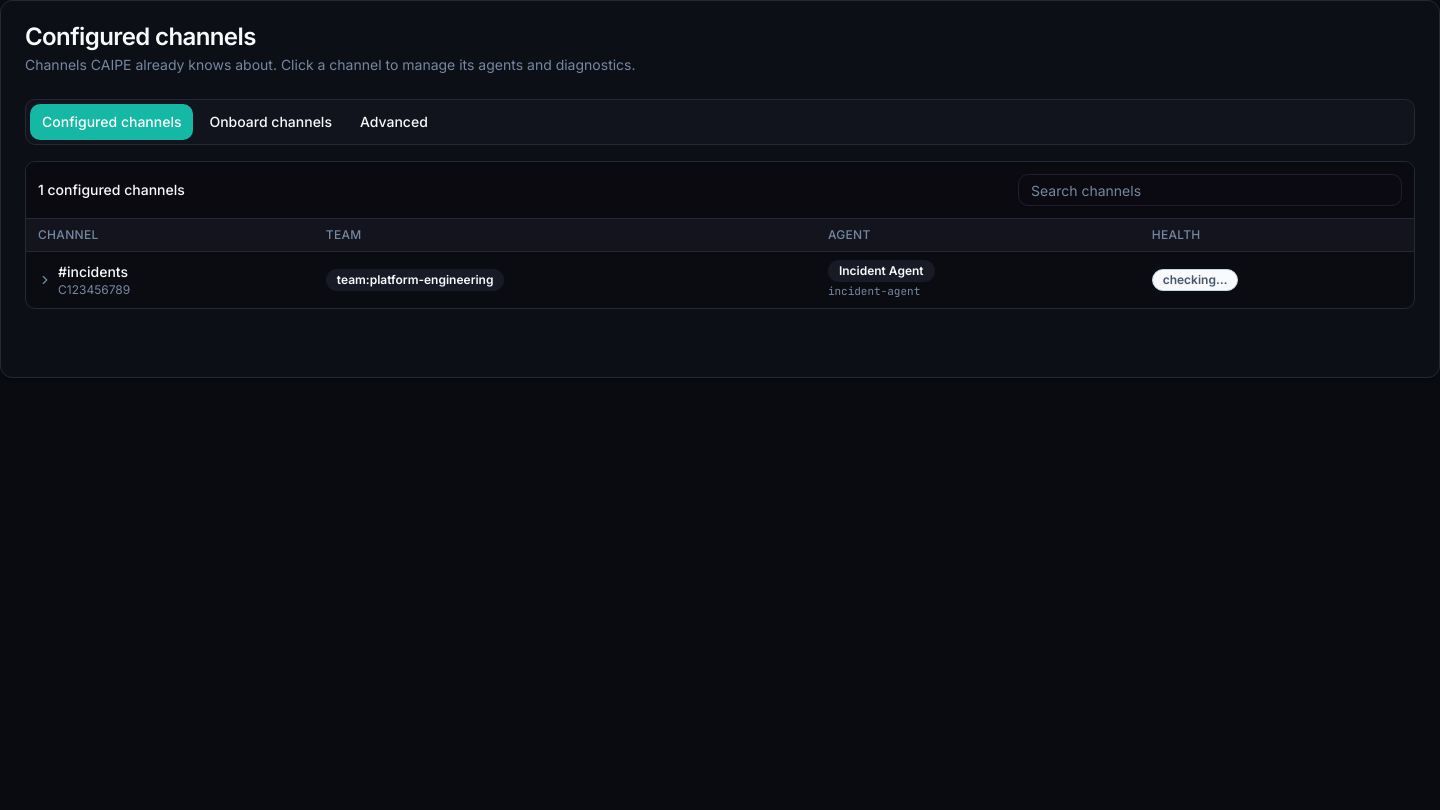
Test: surfaces Slack runtime diagnostics warnings
The image size is (1440, 810).
What coordinates should you click on to do the following:
click the button "#incidents"
I would click on:
 (93, 271)
Its box is [26,252,1414,308].
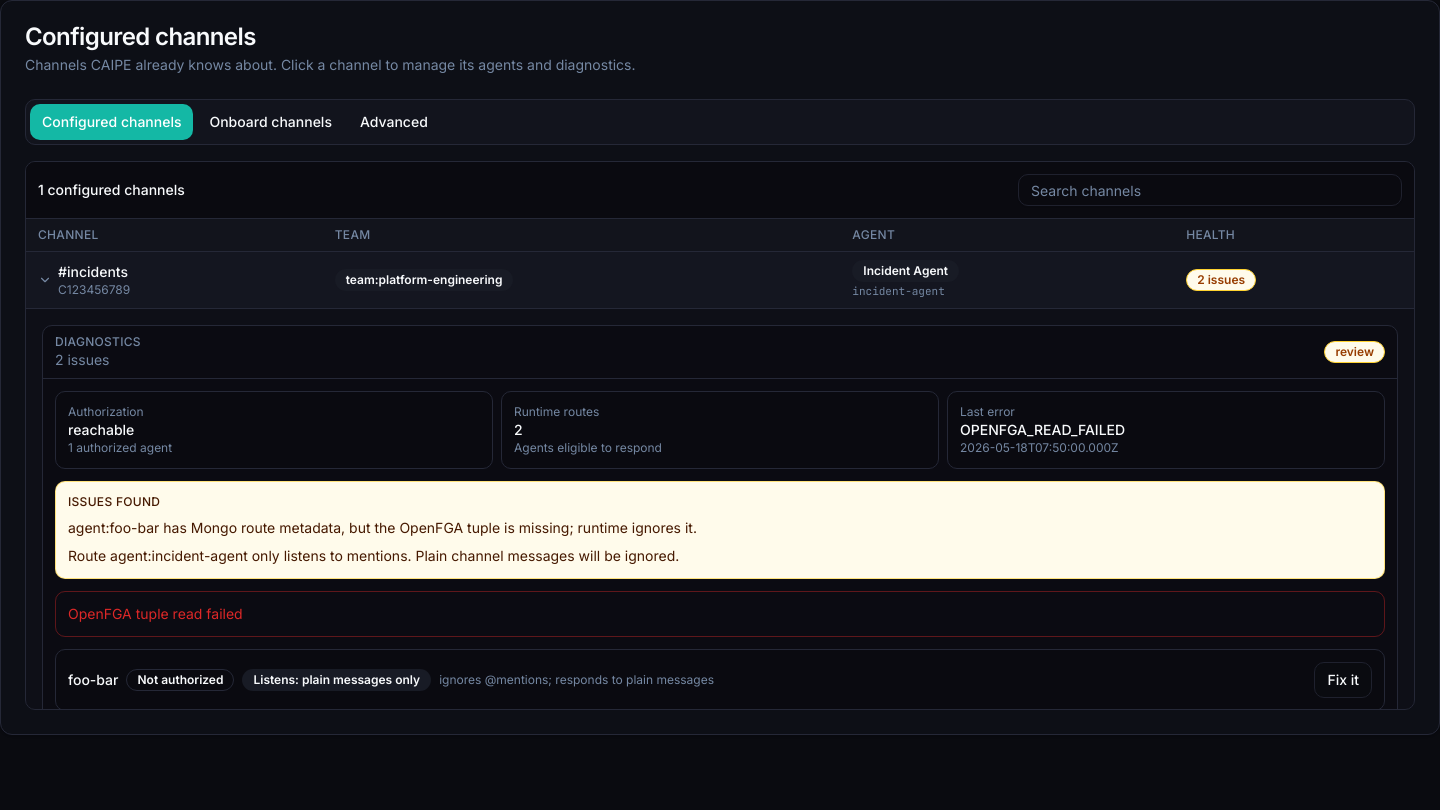
Now the text "Plain channel messages will be ignored" is shown, box [68,547,679,564]
Now the text "OpenFGA tuple read failed" is shown, box [55,591,1385,637]
